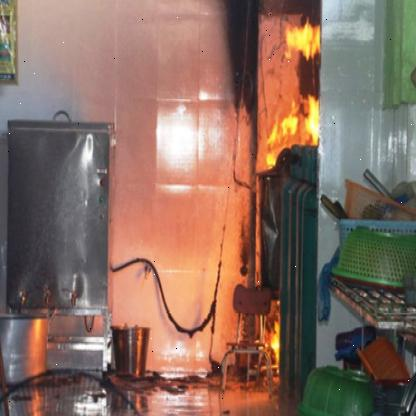fire: (265, 10, 328, 182), (257, 296, 286, 371)
